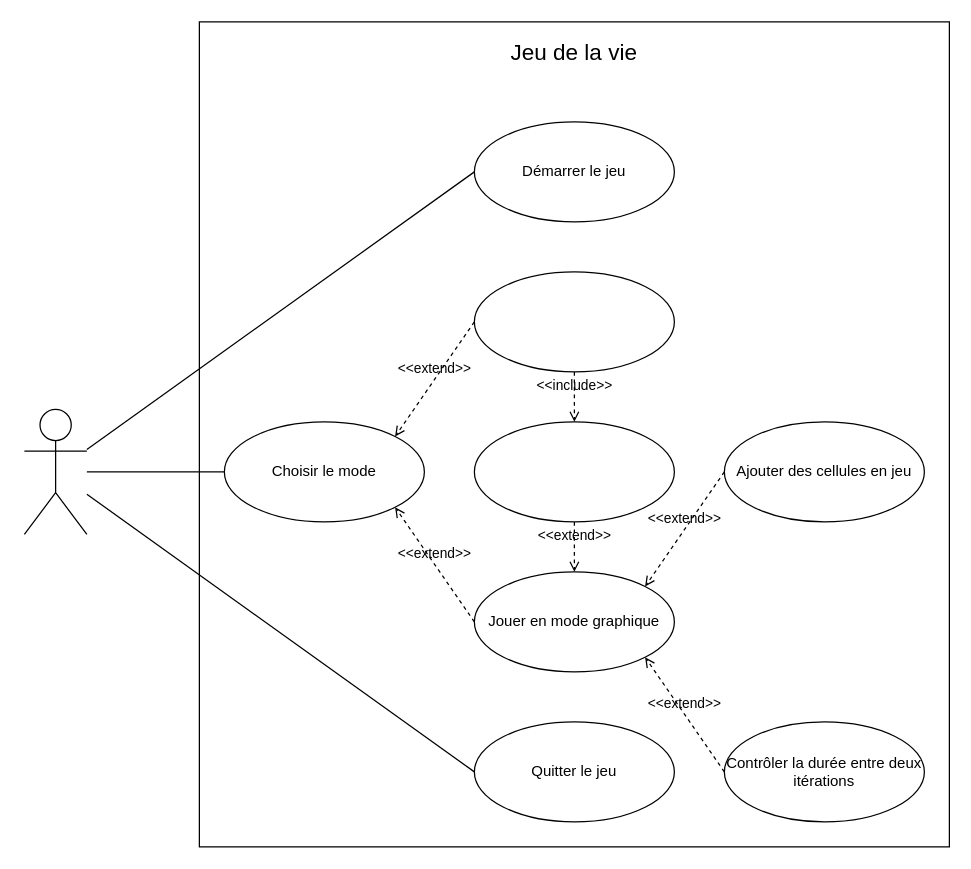
Image size: 971x869. Some labels were removed from this diagram. Each missing label, with the centre of its shape:
Importer un fichier avec les paramètres de jeu: the point at 573,471
Jouer en mode console: the point at 573,321
Joueur: the point at 55,471
